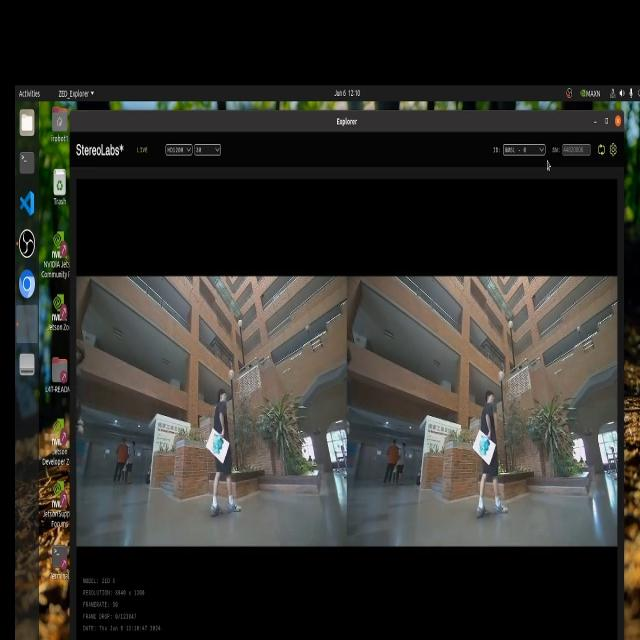green: (208, 429, 226, 454), (476, 433, 493, 456)
